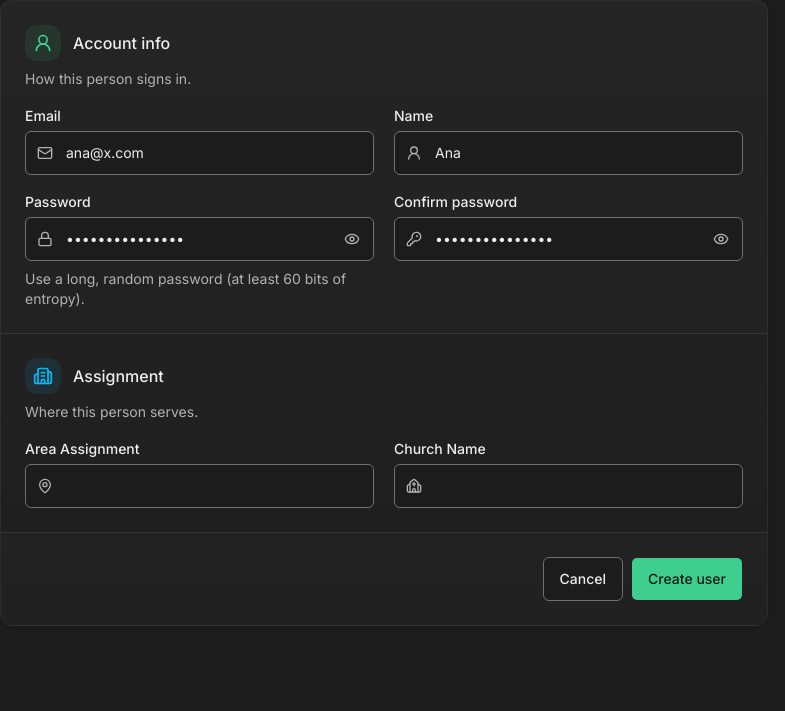
Test: UserForm after a failed submit › focuses the field the server names
Click the button "Create user". click: (687,579)
box: [631,557,743,601]
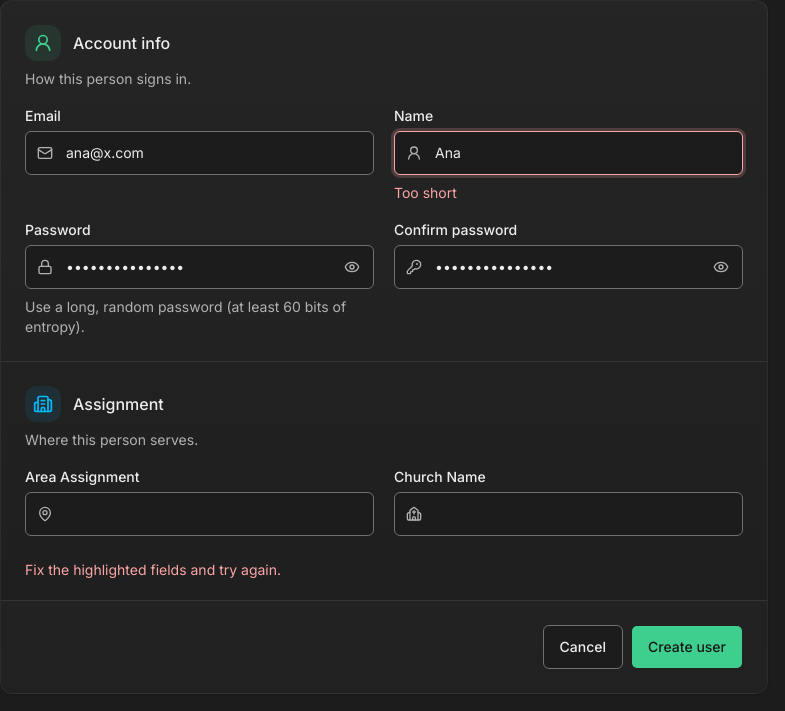
Now the text "Too short" is shown, box [394,184,457,201]
